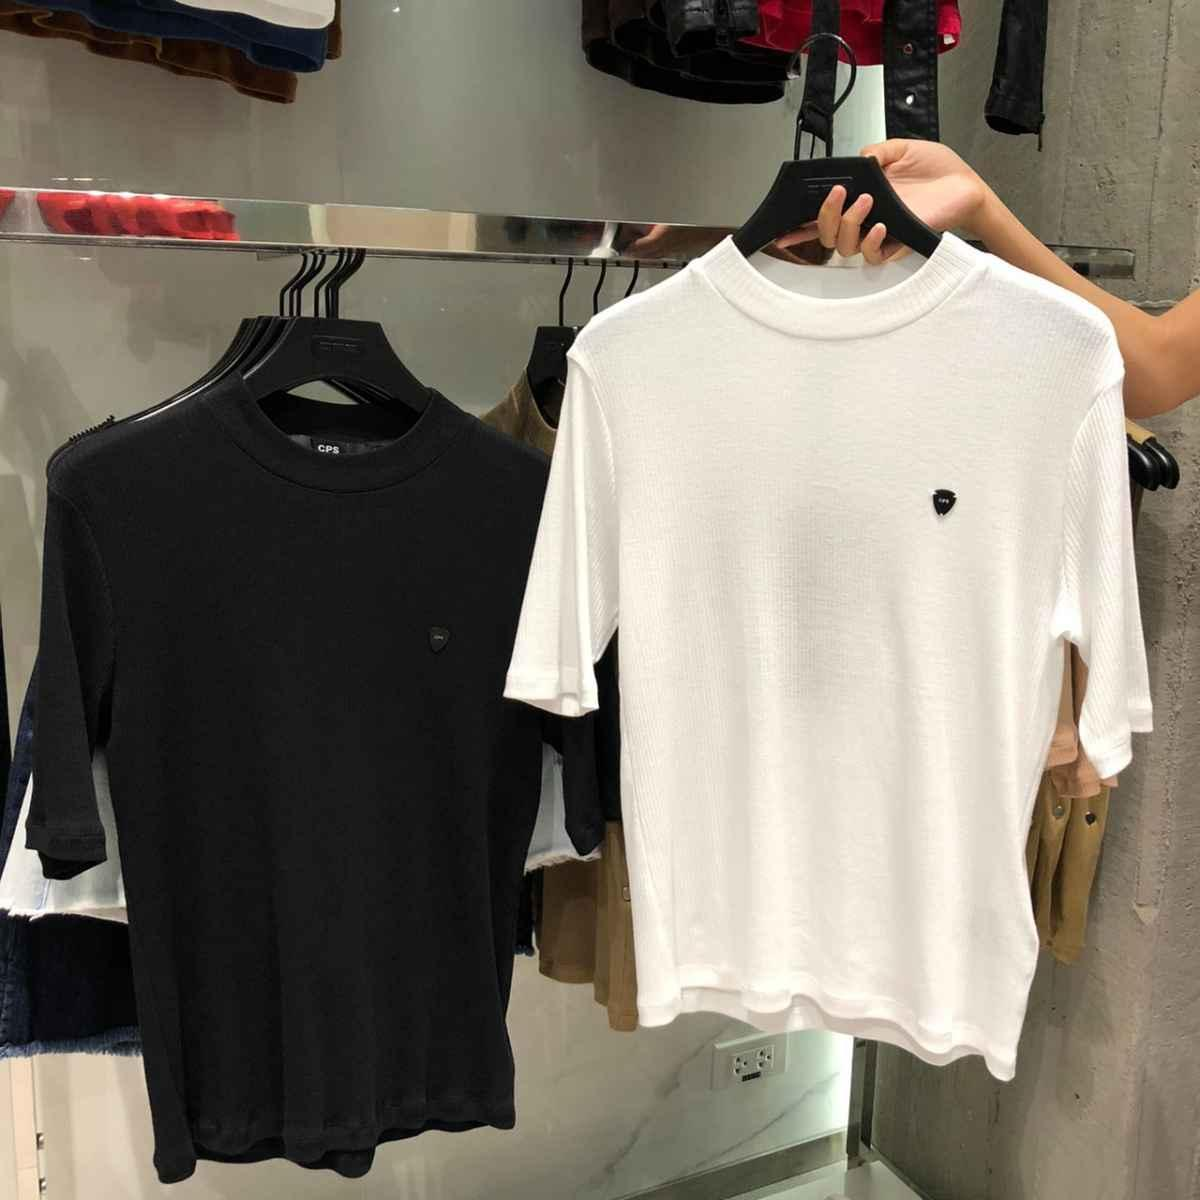Tshirt: (541, 205, 1153, 1012), (35, 358, 533, 1153)
